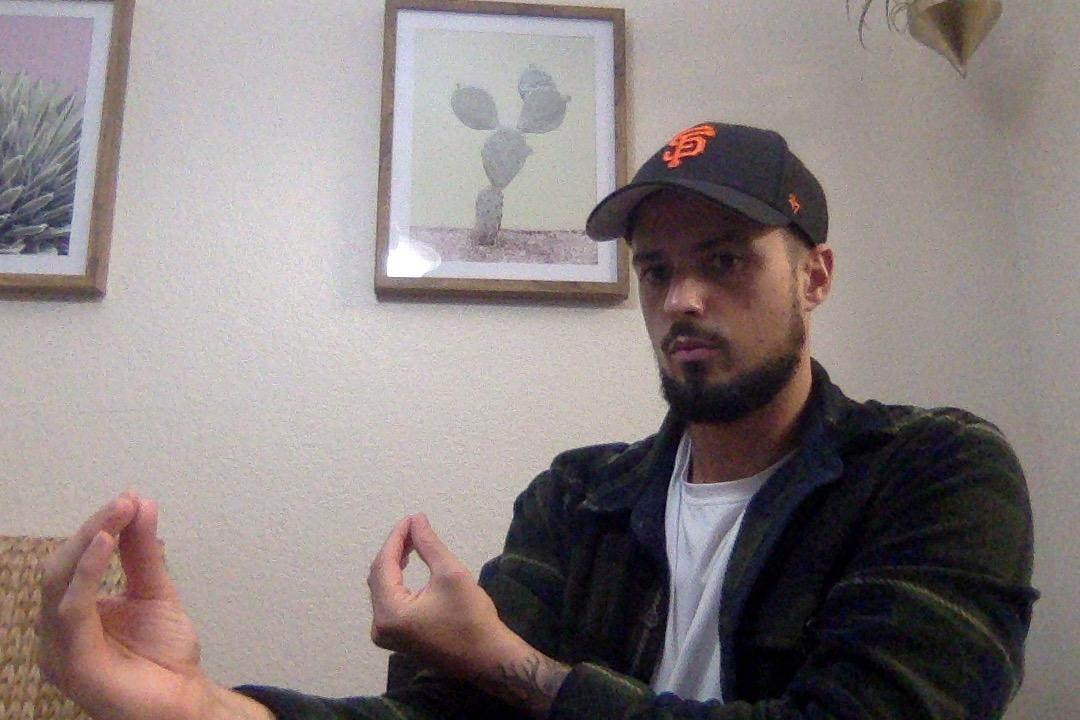Italian-Gesture: (32, 477, 209, 720), (362, 502, 505, 686)
